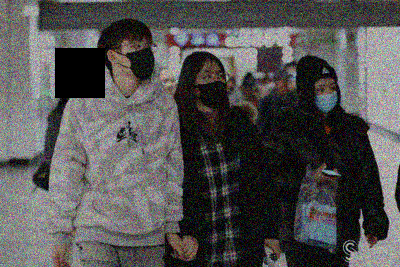with_mask: (119, 40, 157, 80), (197, 68, 227, 110), (316, 81, 338, 113)
without_mask: (161, 78, 178, 98)
